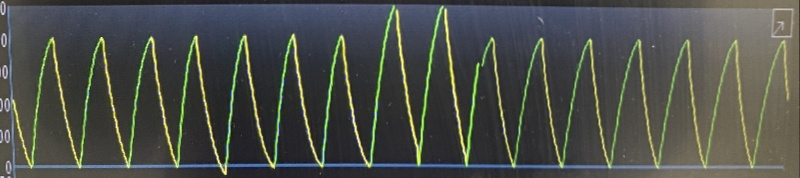normal_volume: (21, 5, 756, 173)
